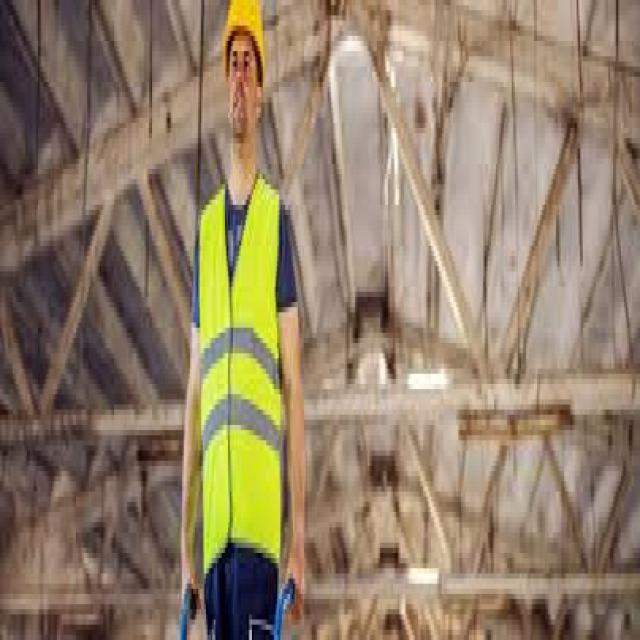Reflective-Jacket: (192, 169, 292, 589)
Safety-Helmet: (219, 0, 269, 77)
